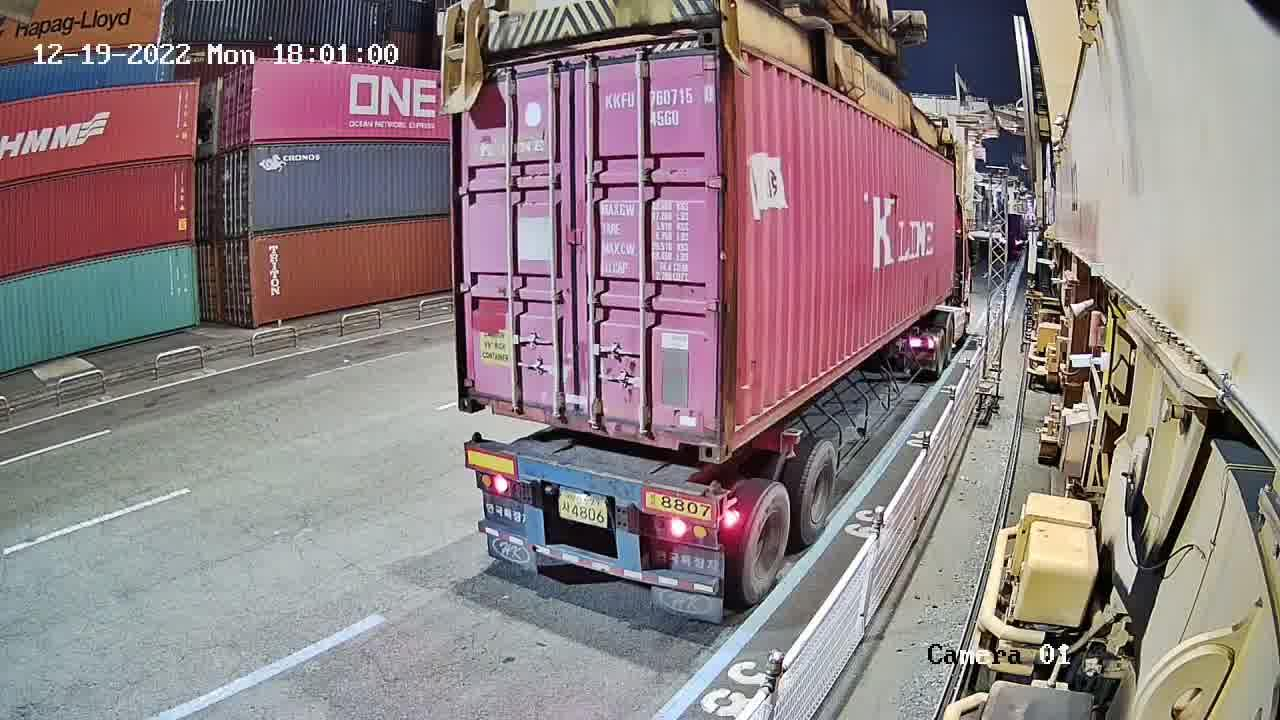Chassis: (462, 440, 729, 524)
Cone: (702, 480, 727, 522), (463, 432, 486, 449)
Hole_L: (722, 395, 752, 463), (457, 367, 496, 414)
Hole_R: (673, 408, 721, 462)
Tire: (744, 488, 790, 599), (802, 445, 836, 540)
